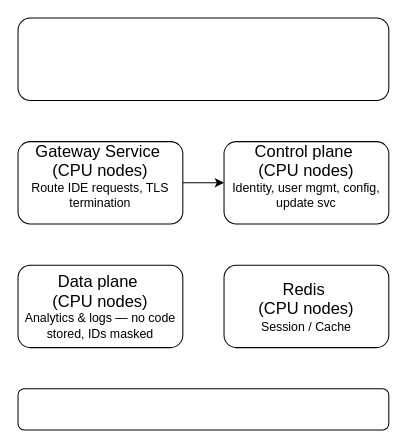
Some shapes in this 407 by 448 pixel diagram are drawn without their labels. Here are the shapes that lost their labels. From the top down, the centre of each, then its label:
point (203, 58): Inference Service (GPU node) code completion & chat
point (203, 409): CSI Secret Store Driver mounts KV secrets as PODs volume
